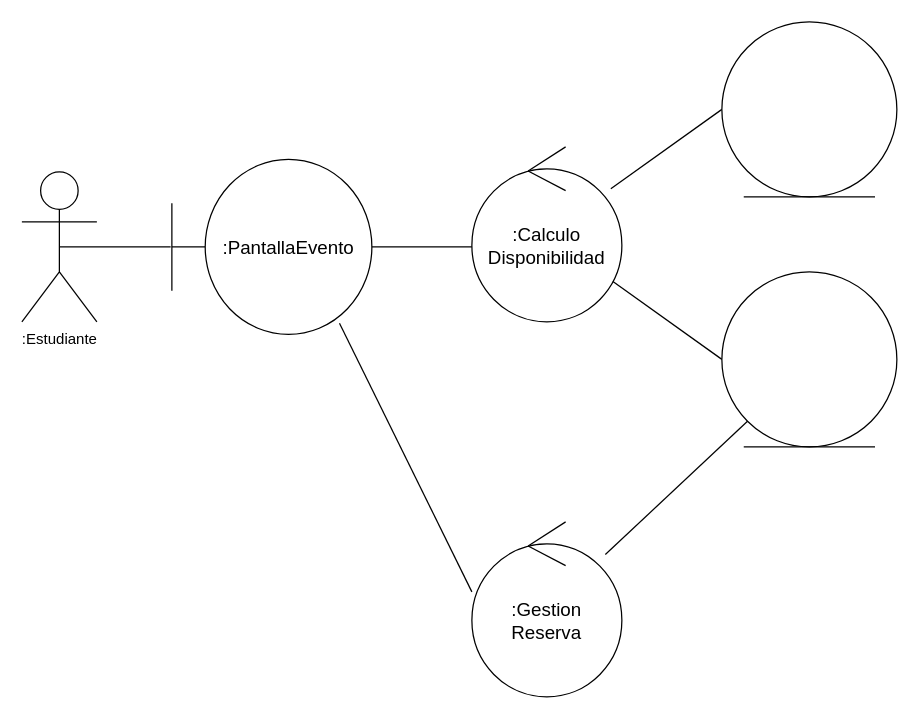
Some shapes in this 919 by 719 pixel diagram are drawn without their labels. Each missing label, with the box of its shape:
:Evento: (721, 21, 897, 197)
:Reserva: (721, 271, 897, 447)
